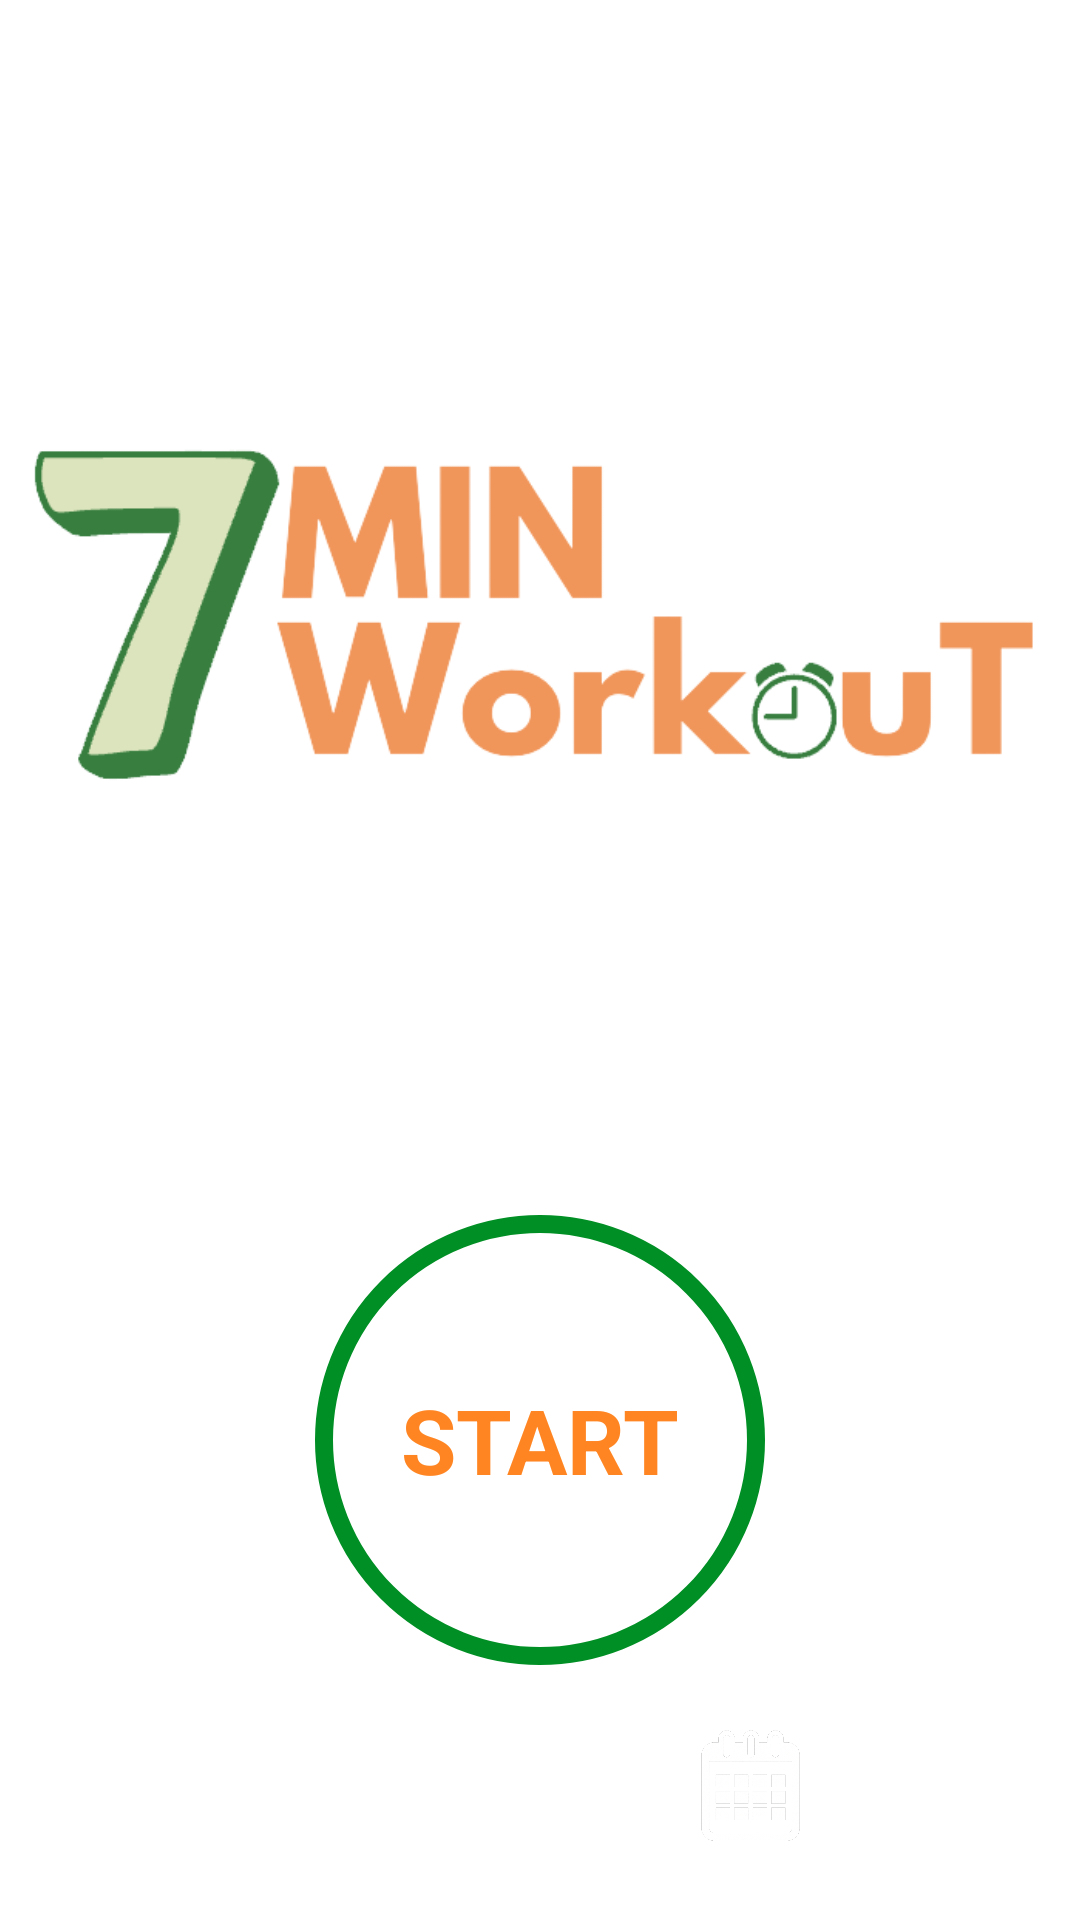

Locate icon controls on the screen. Image size 1080 x 1920, boxes as (x1, y1, x2, y2).
calendar: (701, 1730, 800, 1841)
